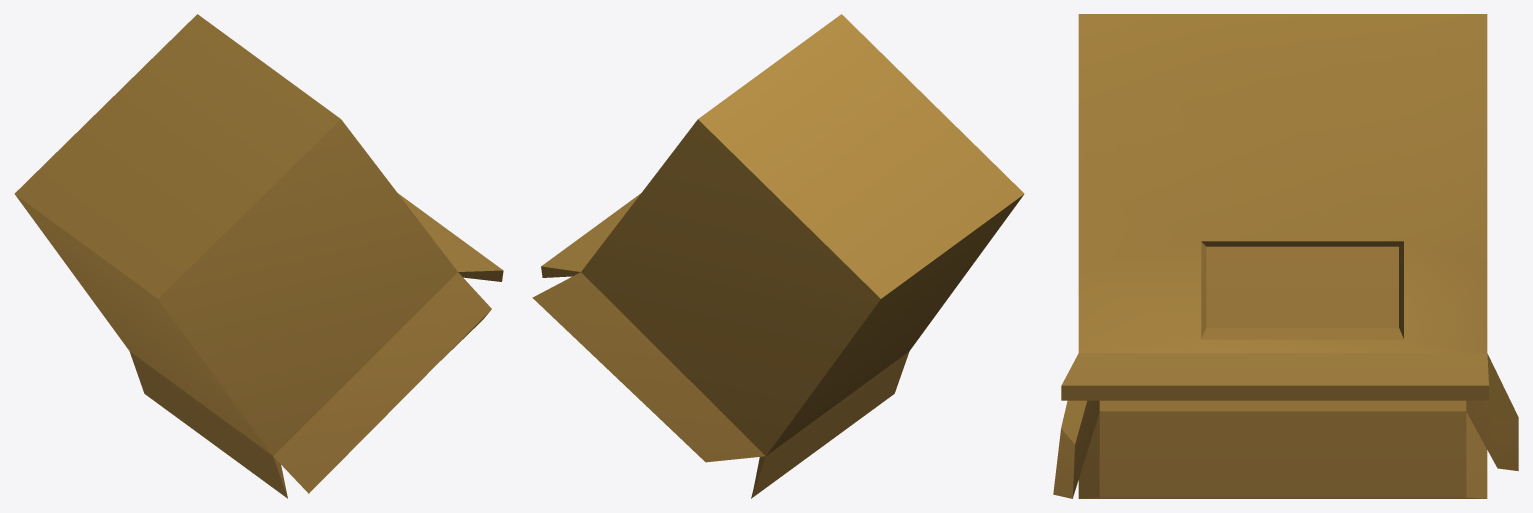
Rendered from Carton.fbx.
3 renders of one model, left to right at view 1: azimuth 30°, elevation 25°; view 2: azimuth 150°, elevation 25°; view 3: azimuth 270°, elevation 25°, orthographic. The views are drawn at different scales.
Parts seen in each view (by area): view 1: Carton; view 2: Carton; view 3: Carton.
Part boxes in pixels (<box>): Carton: <box>14,14,503,498</box>; Carton: <box>532,14,1024,498</box>; Carton: <box>1053,14,1518,498</box>.
Bounding box in the file's own units: 367 × 379 × 306.
Materials: 1 (1 with a texture image).
